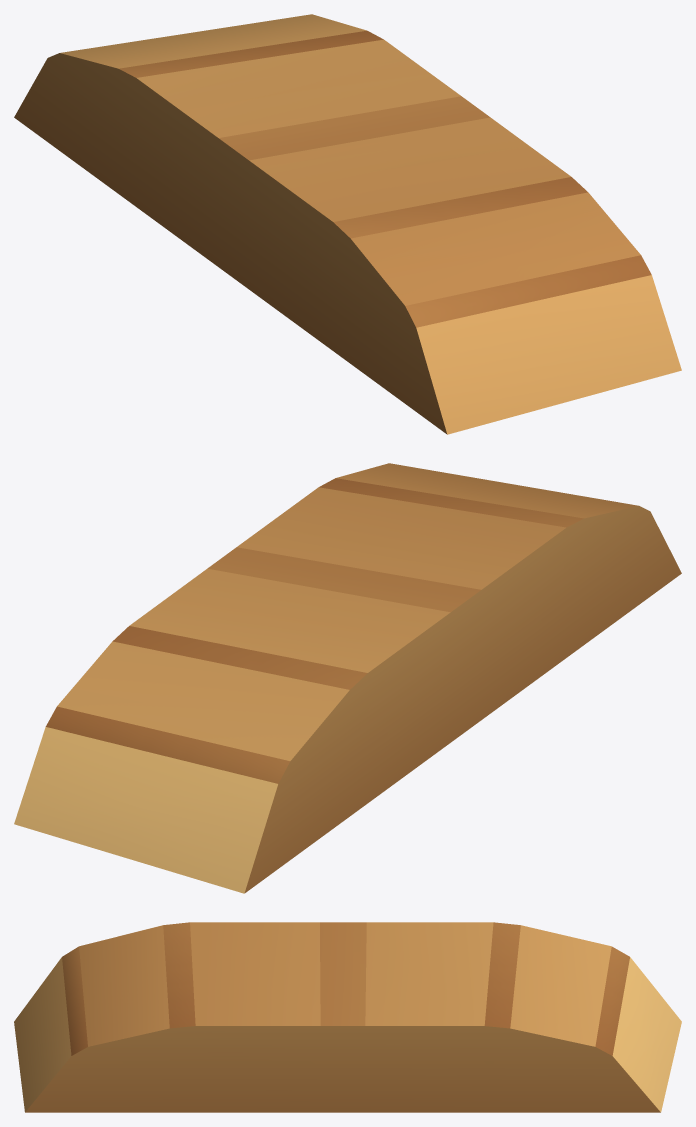
File: Halibut_Meat_04.glb
The picture shows the model from 3 angles, top to bottom: view 1: azimuth 30°, elevation 25°; view 2: azimuth 150°, elevation 25°; view 3: azimuth 270°, elevation 25°; orthographic projection. The views are drawn at different scales.
Visible parts, largest first — view 1: Halibut_Meat_04; view 2: Halibut_Meat_04; view 3: Halibut_Meat_04.
Part boxes in pixels (x1=…): Halibut_Meat_04: x1=14, y1=14, x2=681, y2=434; Halibut_Meat_04: x1=14, y1=463, x2=681, y2=893; Halibut_Meat_04: x1=14, y1=922, x2=681, y2=1112.
Bounding box in the file's own units: 0.12 × 0.0611 × 0.3718.
Materials: 1 (1 with a texture image).
